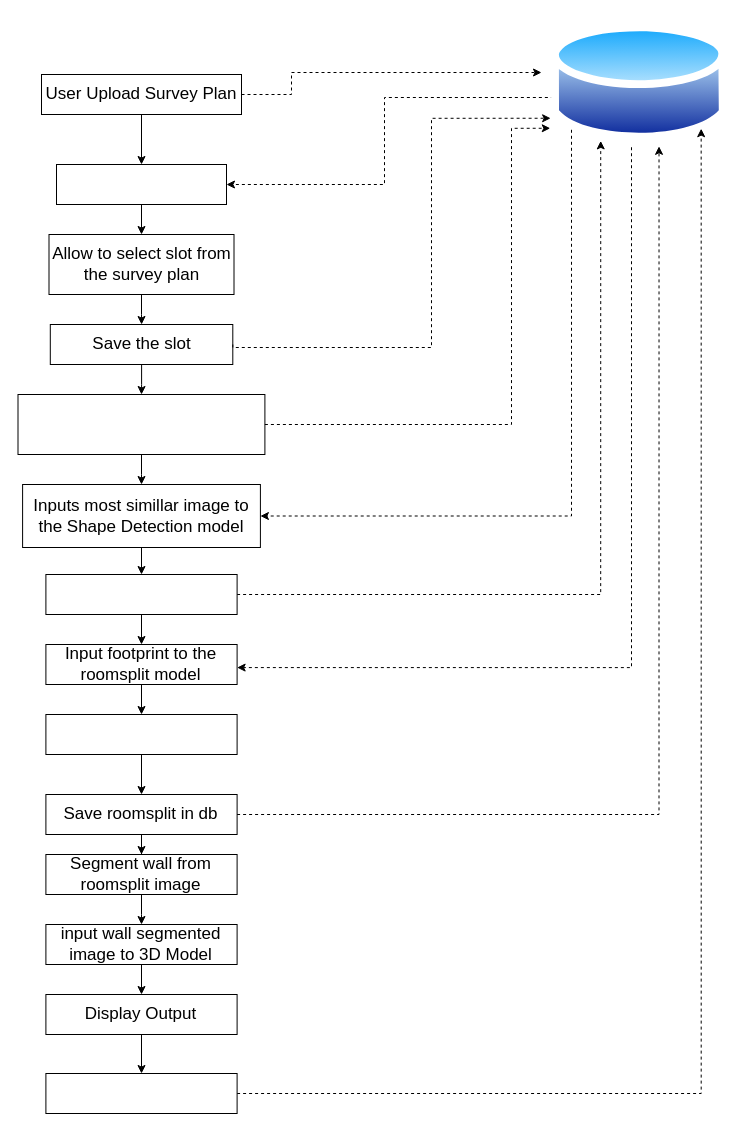
The diagram is 744 pixels wide and 1131 high, and some of its shapes have lost their labels. The centre of each missing label's shape, as x and y in pixels:
"Display Generated roomsplit" goes at point (141, 734).
"Display Upload Image" goes at point (141, 184).
"Find the simillar image from shape detection datasets" goes at point (141, 424).
"Generate footprint" goes at point (141, 594).
"Save model output" goes at point (141, 1093).
